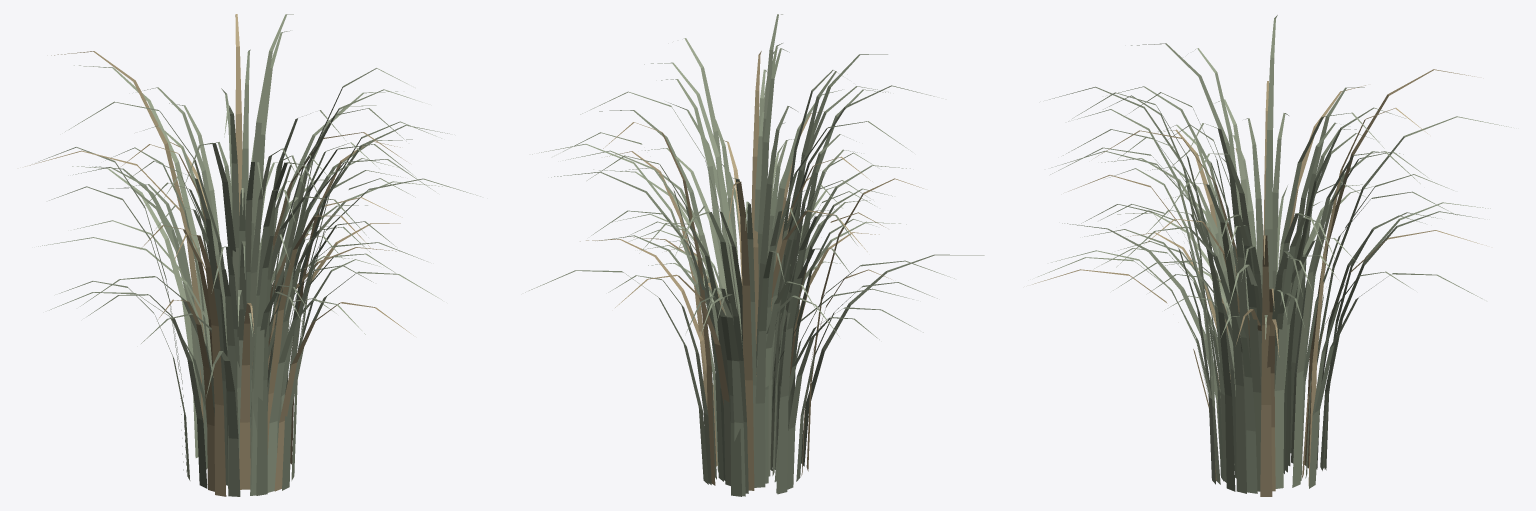
The model's file is leymus-arenarius-light.glb.
3 views of the same model, side by side, from view 1: azimuth 30°, elevation 25°; view 2: azimuth 150°, elevation 25°; view 3: azimuth 270°, elevation 25° (orthographic). The views are drawn at different scales.
Parts seen in each view (by area): view 1: leymus-arenarius • arching individual blades; view 2: leymus-arenarius • arching individual blades; view 3: leymus-arenarius • arching individual blades.
Part boxes in pixels (x1,y1,x2,y2): leymus-arenarius • arching individual blades: (25, 14, 480, 496); leymus-arenarius • arching individual blades: (525, 14, 984, 496); leymus-arenarius • arching individual blades: (1032, 15, 1511, 496).
Bounding box in the file's own units: 0.8947 × 0.8949 × 1.
